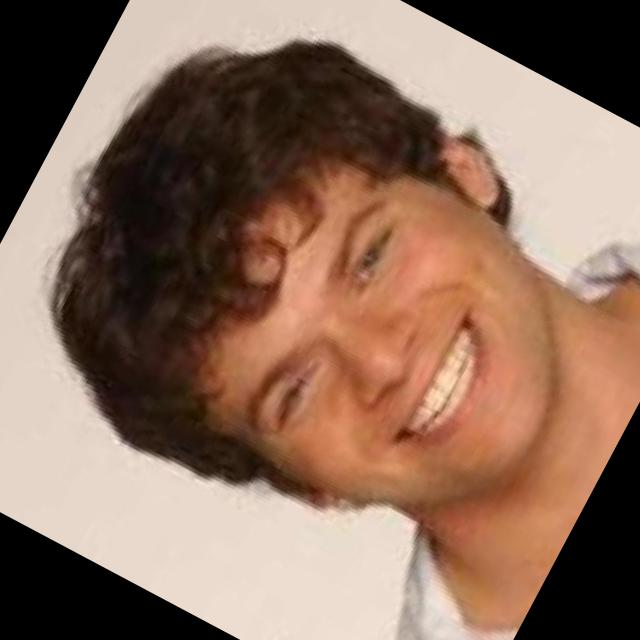bareface: (32, 22, 618, 577)
